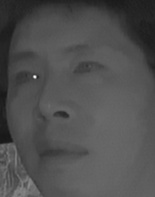eye: (68, 58, 109, 78), (12, 66, 42, 91)
mouth: (36, 134, 89, 170)
